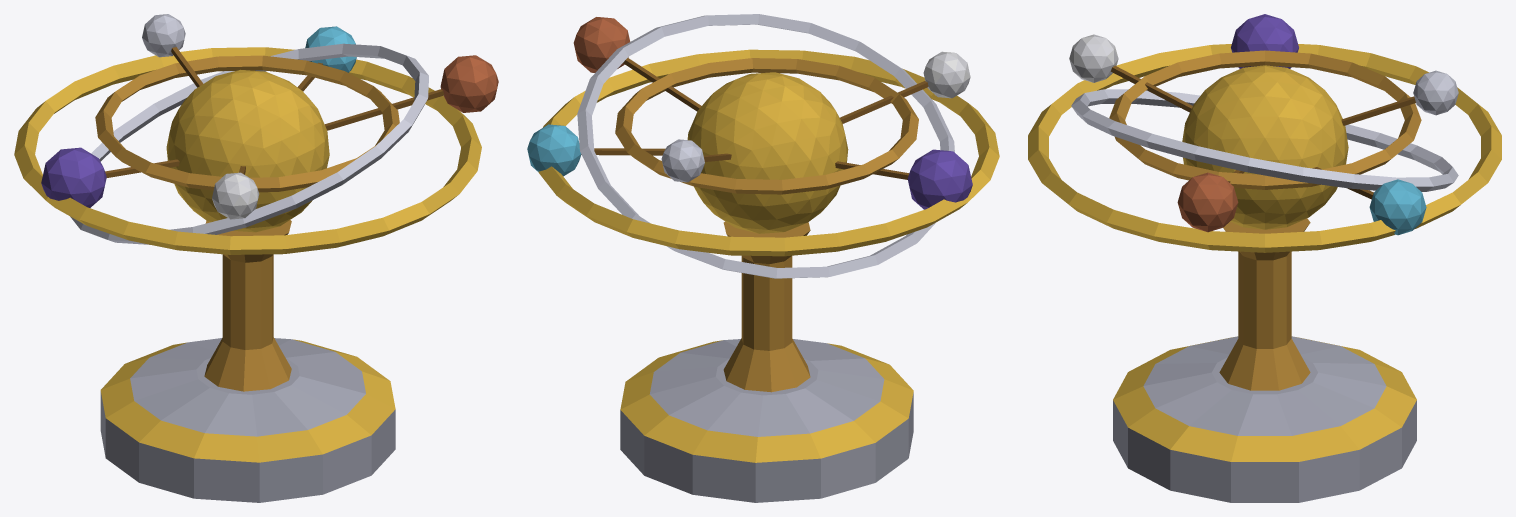
File: Decor_ClockTower_Orrery.fbx
The picture shows the model from 3 angles, left to right: view 1: azimuth 30°, elevation 25°; view 2: azimuth 150°, elevation 25°; view 3: azimuth 270°, elevation 25°; orthographic projection. The views are drawn at different scales.
Parts seen in each view (by area): view 1: Orrery_Body; view 2: Orrery_Body; view 3: Orrery_Body.
Part boxes in pixels (left/top/right/bottom): Orrery_Body: left=14, top=14, right=498, bottom=502; Orrery_Body: left=527, top=14, right=999, bottom=502; Orrery_Body: left=1028, top=14, right=1501, bottom=502.
Size of the model in its own units: 13.1 by 10.8 by 12.6.
